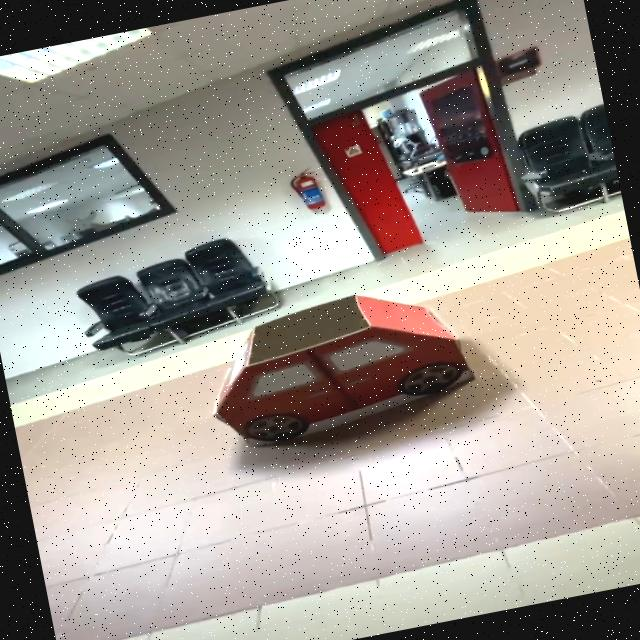red_car: (180, 257, 504, 473)
